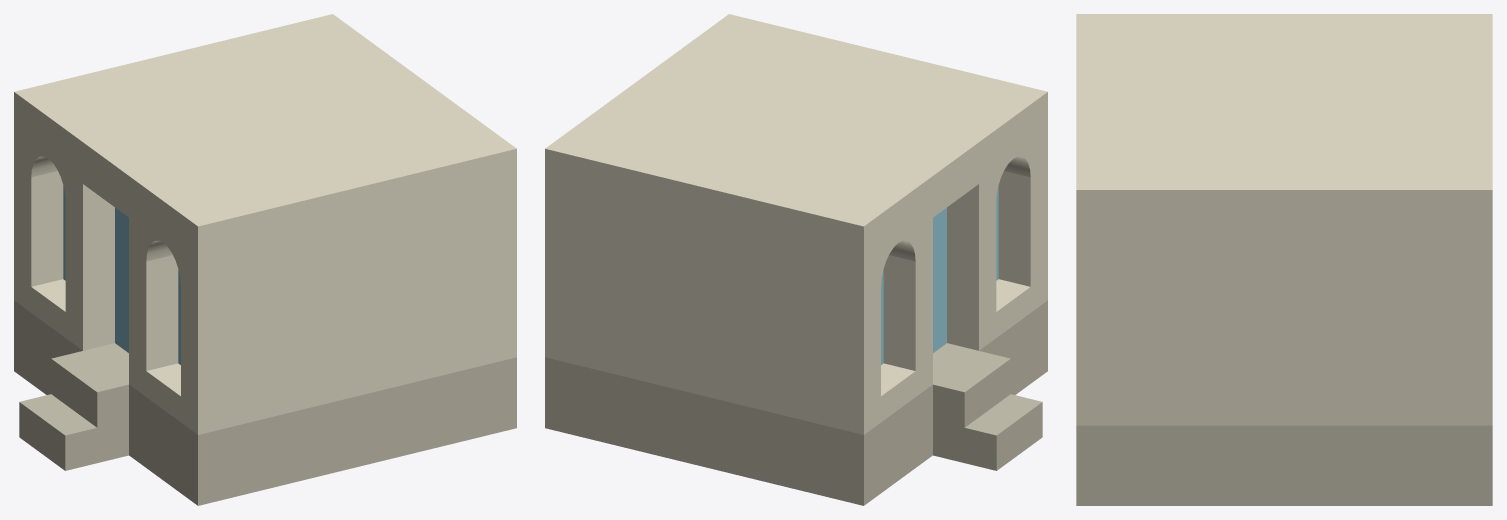
The model's file is basement2.obj.
3 views of the same model, side by side, from view 1: azimuth 30°, elevation 25°; view 2: azimuth 150°, elevation 25°; view 3: azimuth 270°, elevation 25° (orthographic). The views are drawn at different scales.
Parts seen in each view (by area): view 1: basement2; view 2: basement2; view 3: basement2.
Boxes of the visible parts, left/top/right/bottom form: basement2: left=14, top=14, right=516, bottom=505; basement2: left=545, top=14, right=1047, bottom=505; basement2: left=1076, top=14, right=1492, bottom=505.
Size of the model in its own units: 1.2 by 0.8375 by 1.
